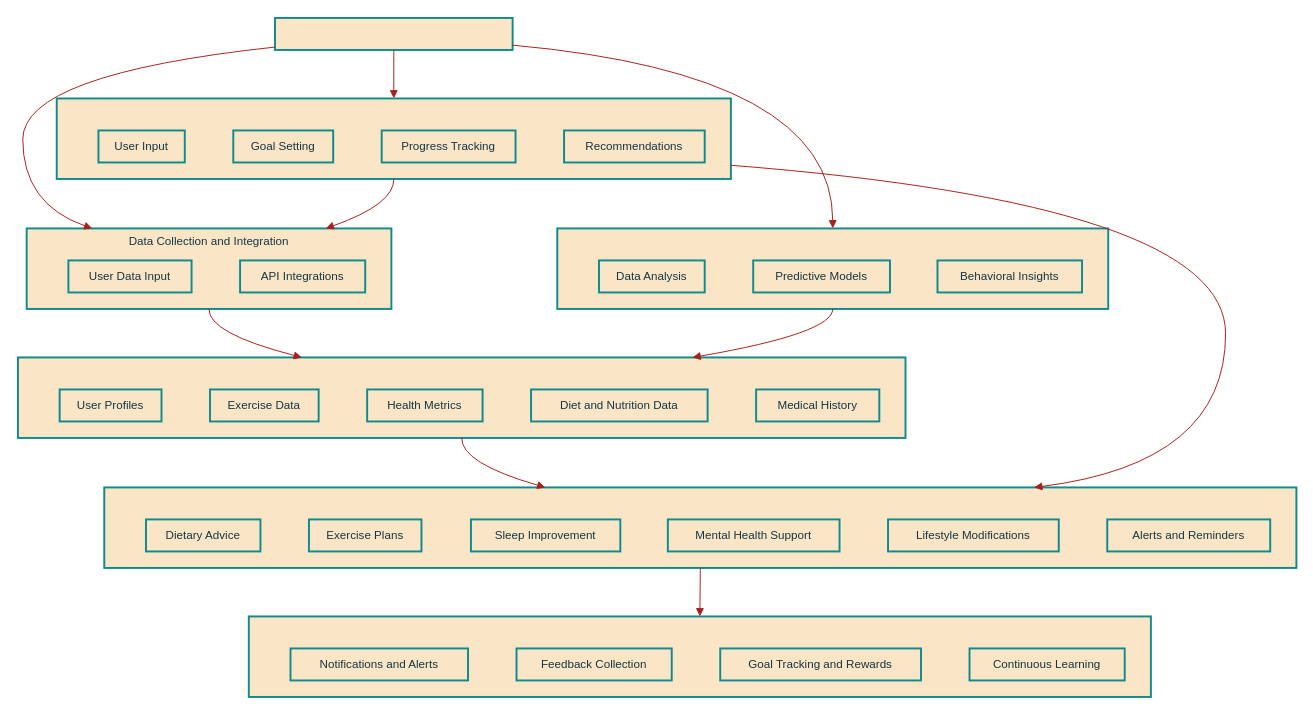
The diagram is 1313 pixels wide and 714 high, and some of its shapes have lost their labels. The box of each missing label's shape, as (x1, y1, x2, y2) in pixels:
Centralized Database: (16, 356, 906, 438)
Machine Learning Algorithms: (556, 227, 1109, 309)
Personalized Healthcare Advisor: (274, 16, 513, 50)
Personalized Recommendations Engine: (103, 486, 1297, 568)
User Interface: (55, 97, 731, 179)
User Notifications and Feedback: (247, 615, 1151, 697)
